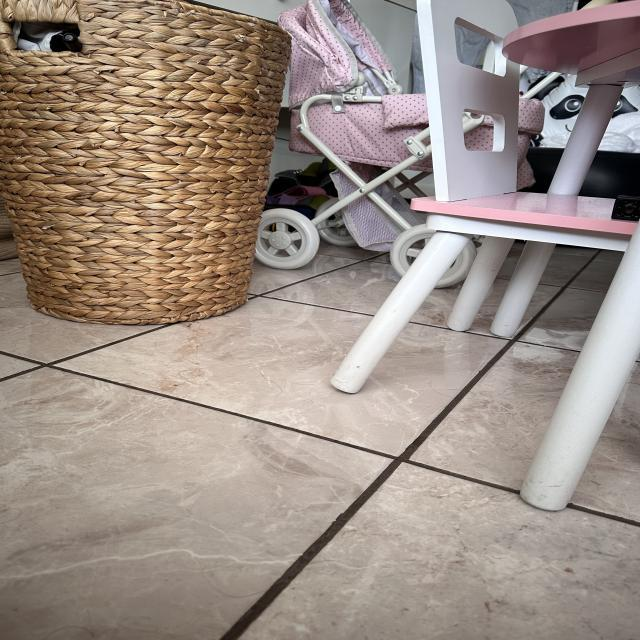hidden camera: (63, 33, 76, 42)
